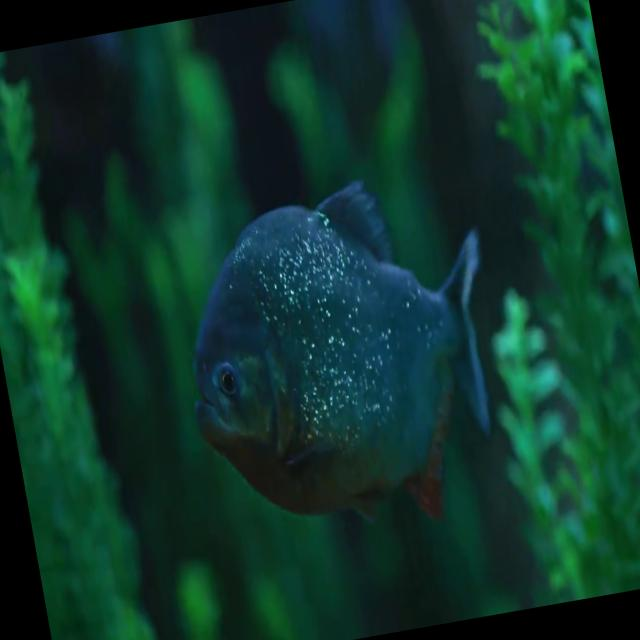fish: (157, 142, 531, 558)
